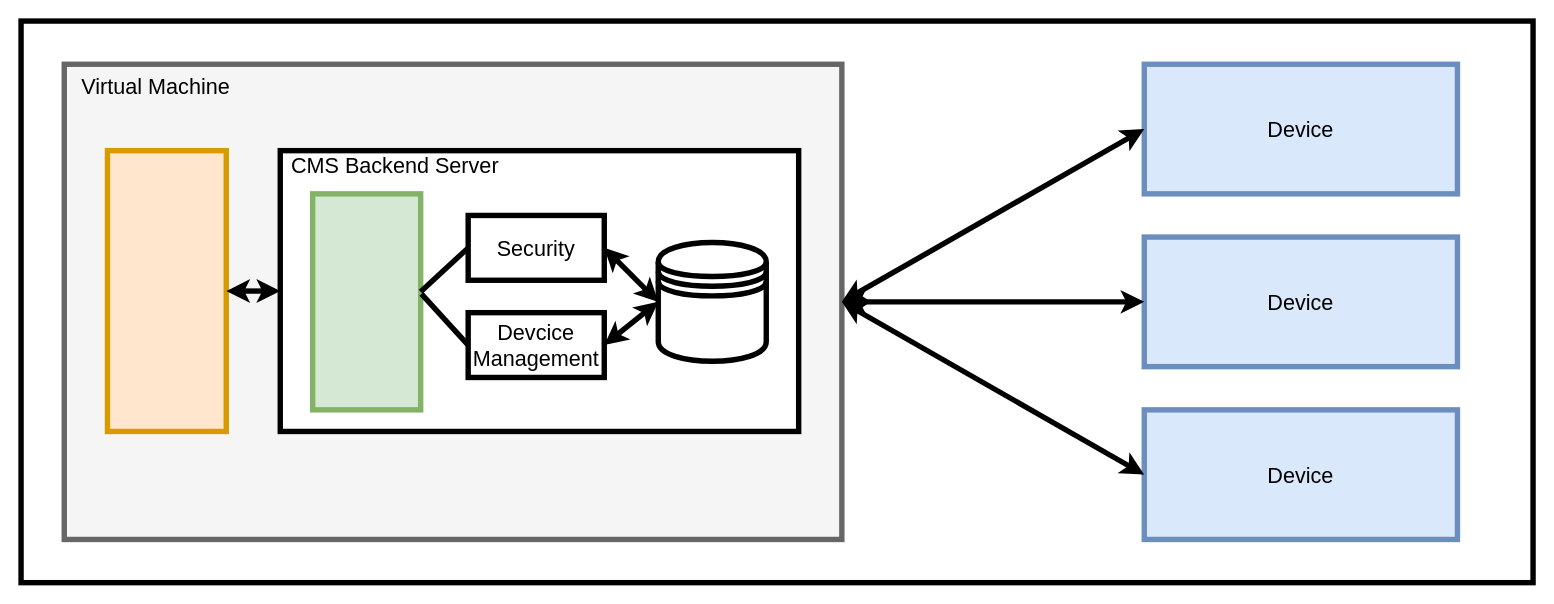
Some shapes in this 1554 by 604 pixel diagram are drawn without their labels. The shapes that lost their labels are listed below. From the top down, each one's centre as x and y in pixels, then its label:
At point 166,290: "Frontend (Angular)".
At point 366,301: "Swagger2 API".
At point 711,301: "H2 Database".
